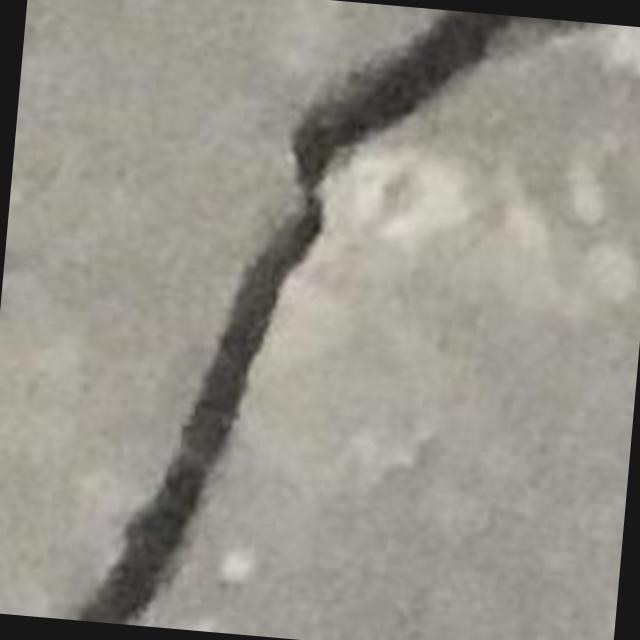crack: (76, 11, 585, 624)
